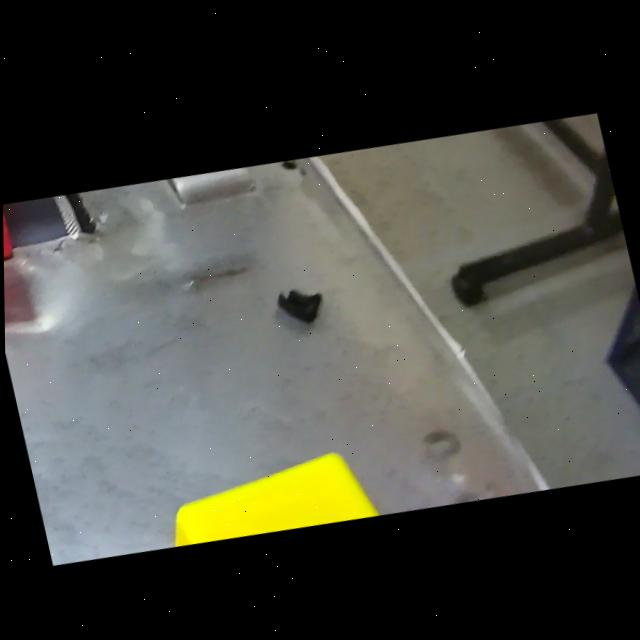redBox: (2, 203, 20, 272)
yellowBox: (151, 426, 385, 555)
